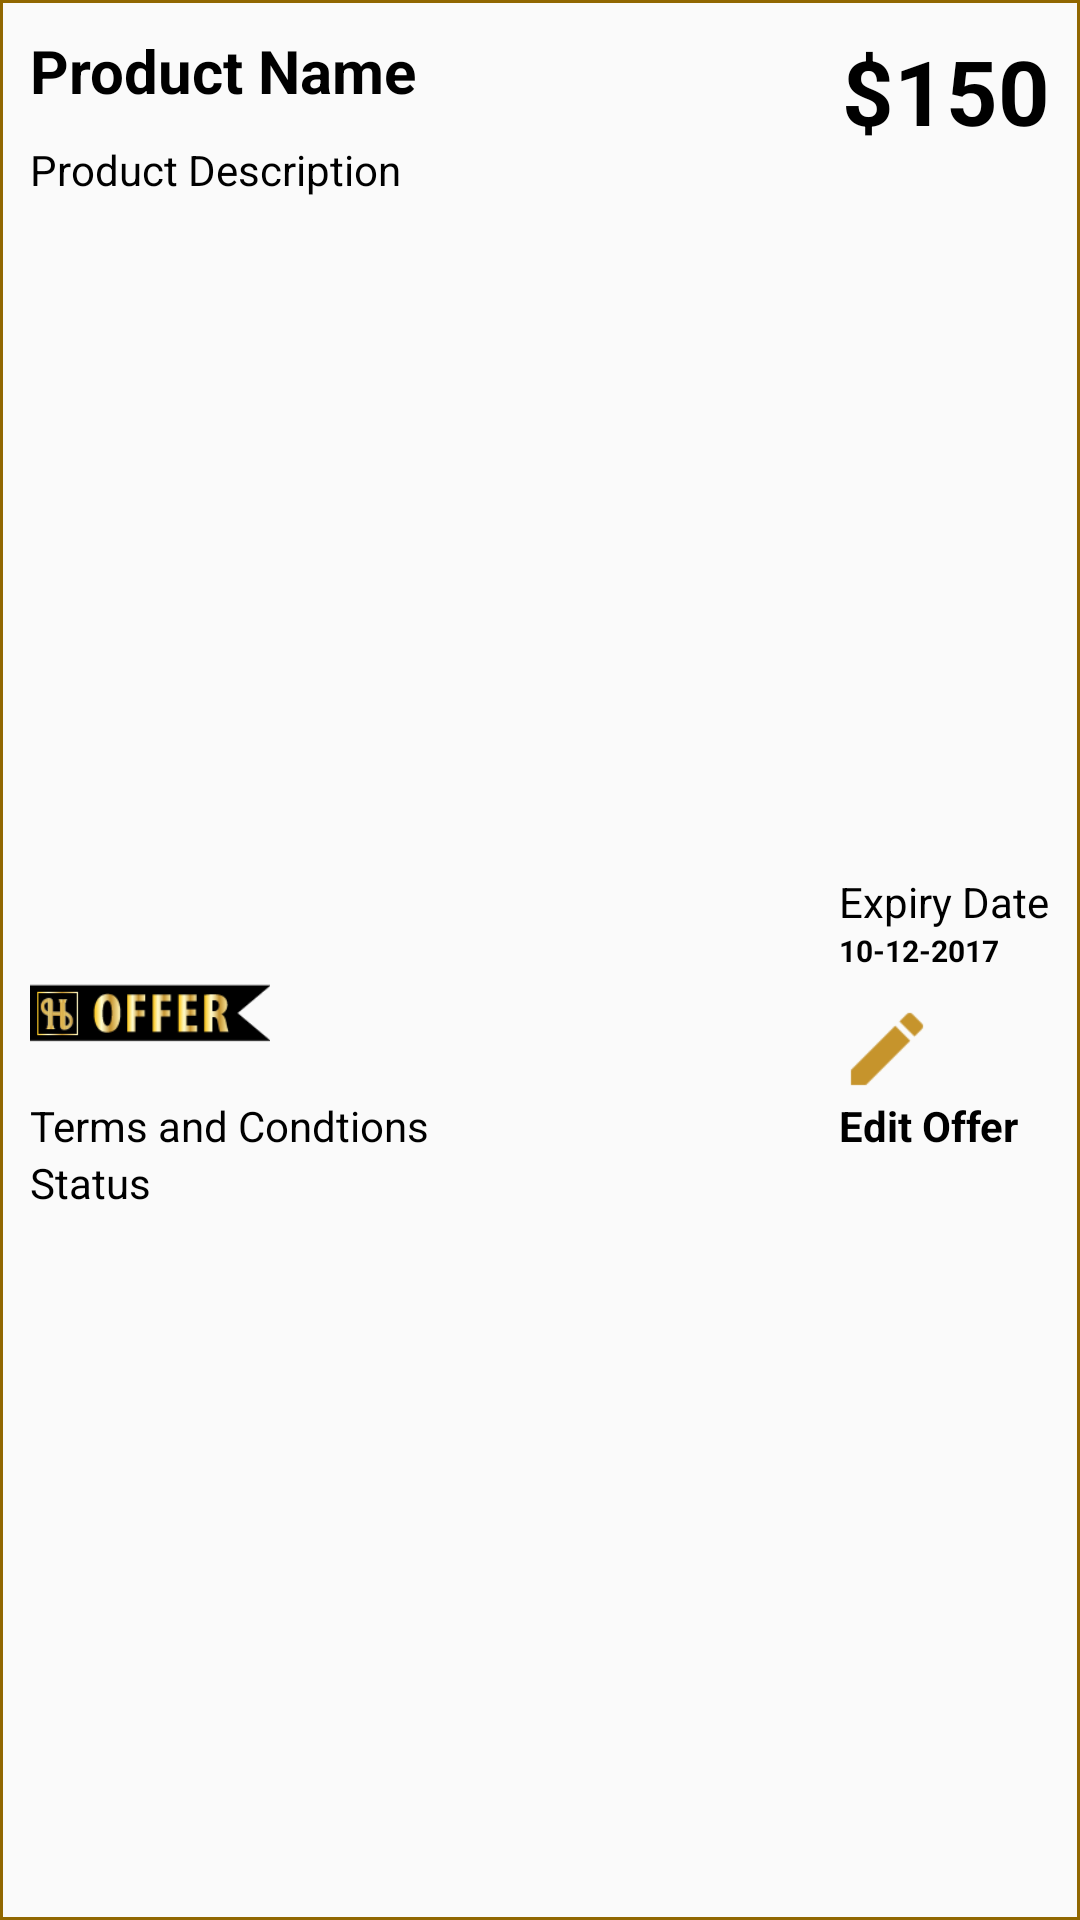

Where to tap for icons on this 1080x1920 app screen, as [x,y]:
create gold: [886,1049]
